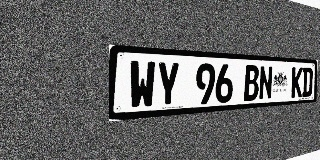6: (215, 64, 233, 103)
9: (196, 63, 216, 105)
B: (244, 65, 259, 101)
D: (302, 67, 313, 97)
K: (291, 67, 303, 98)
N: (259, 66, 273, 100)
W: (129, 60, 156, 109)
Y: (156, 61, 180, 108)
